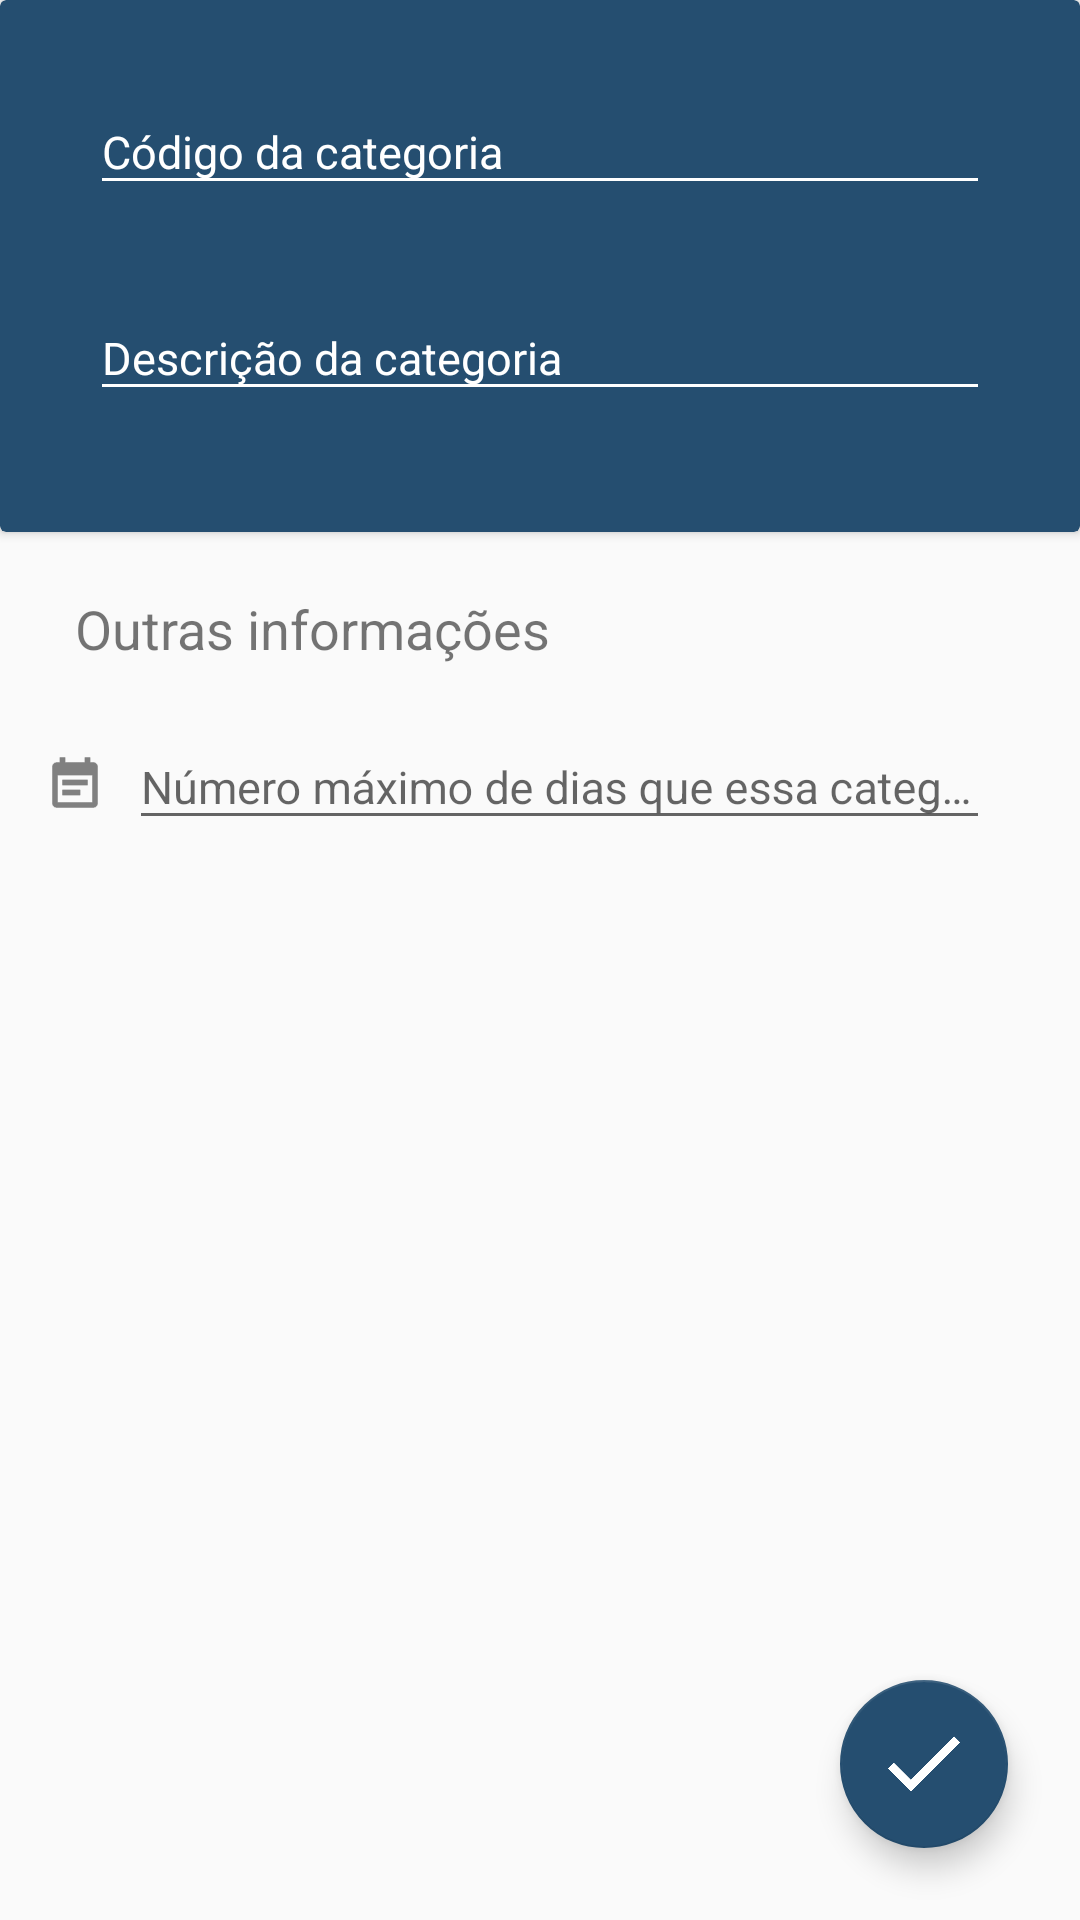

Icons on this 1080×1920 Android screen, each with its box as (x1, y1, x2, y2):
calendar event: (52, 757, 98, 808)
done: (840, 1680, 1008, 1848)
